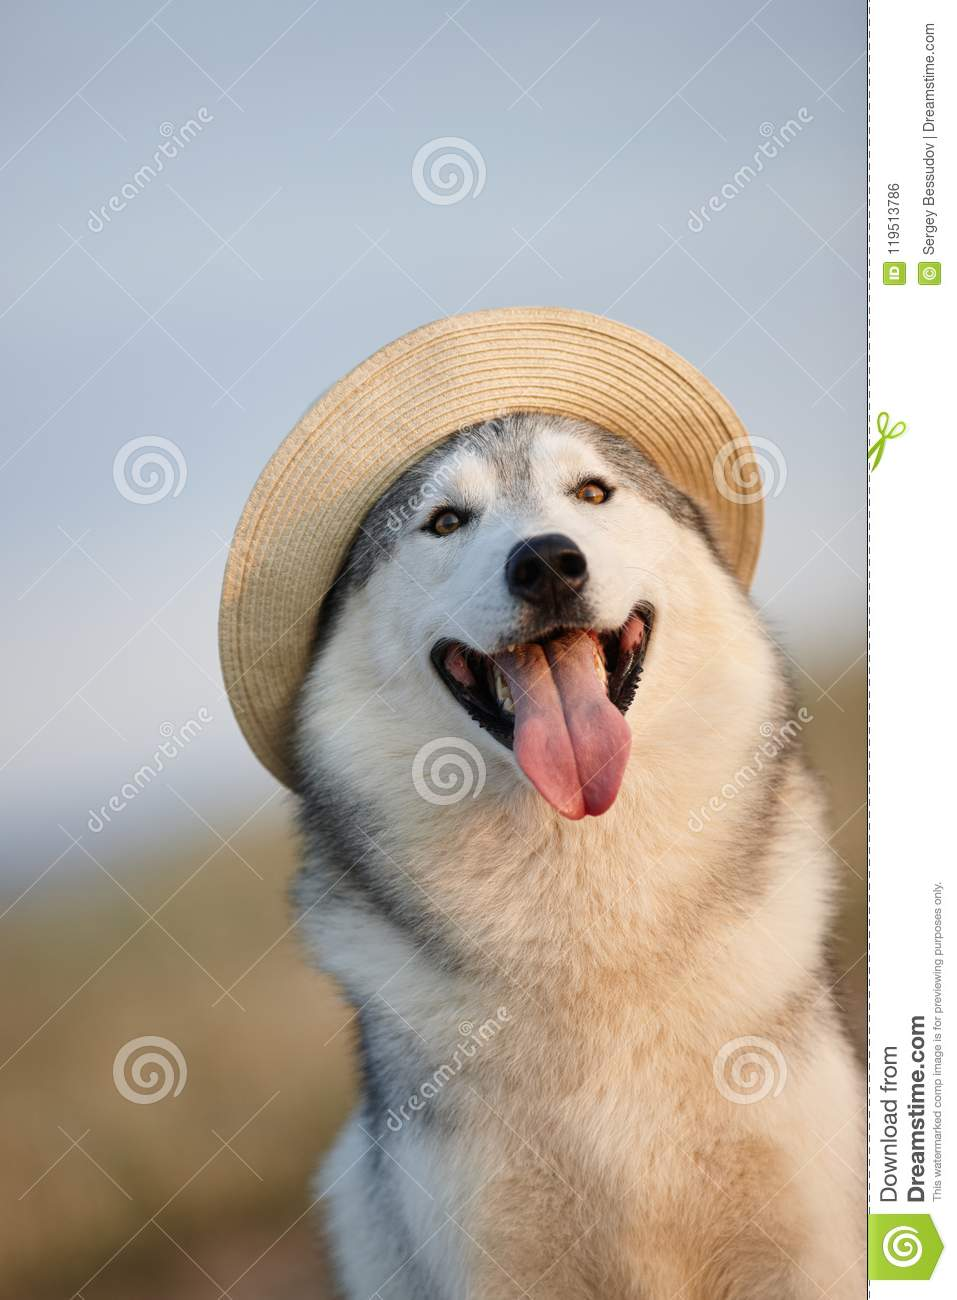husky: (281, 342, 871, 1300)
